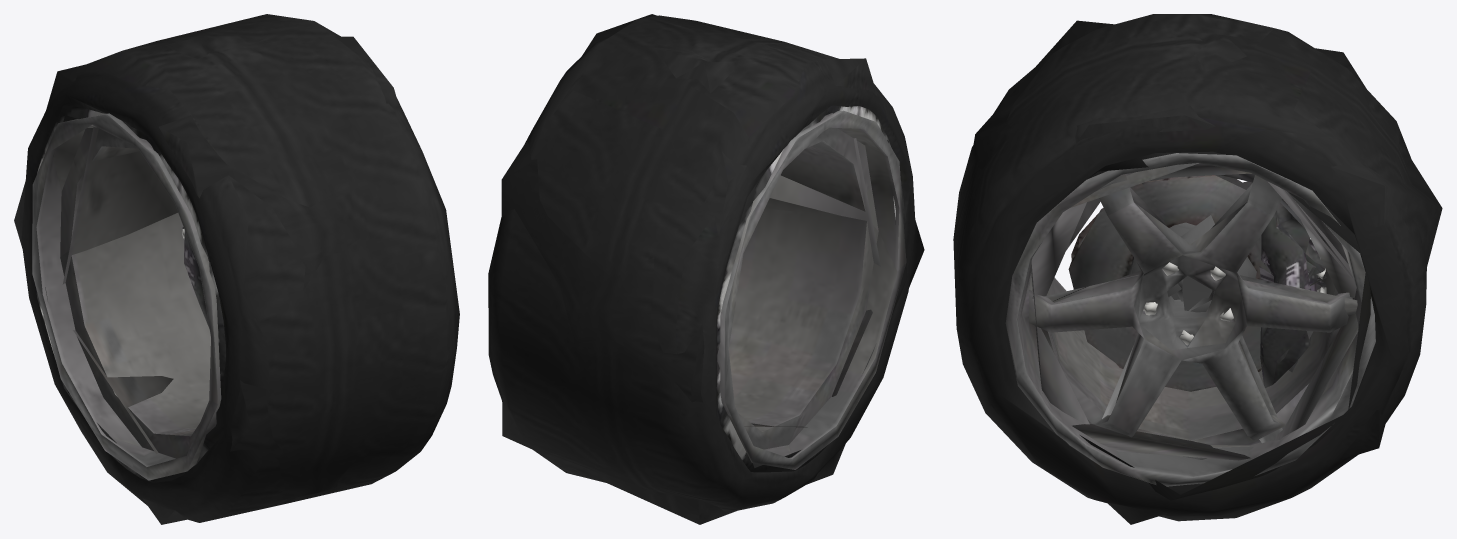
Rendered from wheel_car.glb.
The picture shows the model from 3 angles, left to right: view 1: azimuth 30°, elevation 25°; view 2: azimuth 150°, elevation 25°; view 3: azimuth 270°, elevation 25°; orthographic projection. The views are drawn at different scales.
Parts seen in each view (by area): view 1: near, far; view 2: near, far; view 3: near, far.
Part boxes in pixels (x1=…): near: x1=21, y1=14, x2=459, y2=522; far: x1=14, y1=36, x2=400, y2=524; near: x1=488, y1=15, x2=915, y2=512; far: x1=501, y1=14, x2=924, y2=524; near: x1=953, y1=14, x2=1426, y2=521; far: x1=969, y1=20, x2=1442, y2=524.
Bounding box in the file's own units: 1.1 × 2.01 × 2.05.
Materials: 1 (1 with a texture image).
